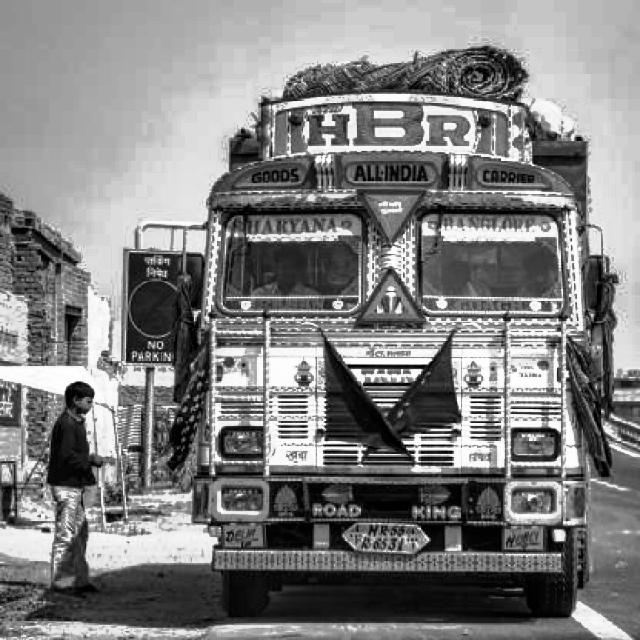HCV: (194, 128, 594, 615)
